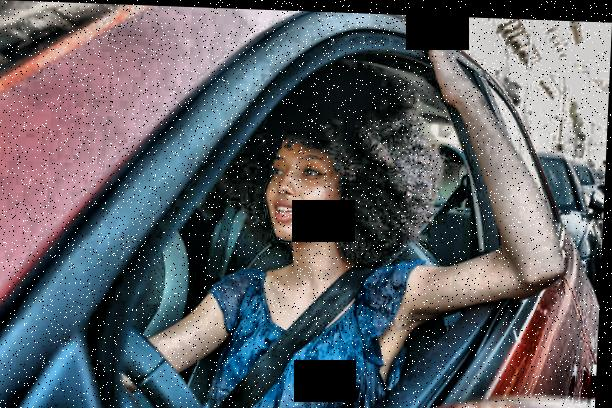seatbelt: (218, 164, 469, 408)
